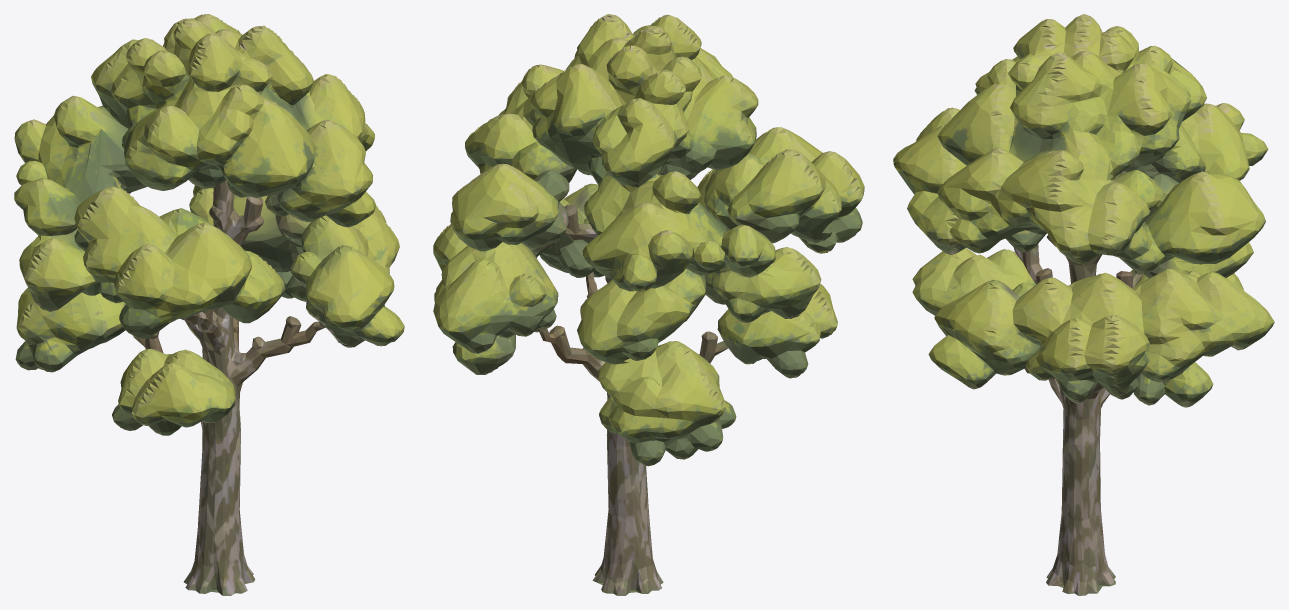
The model's file is plane_tree.glb.
The picture shows the model from 3 angles, left to right: view 1: azimuth 30°, elevation 25°; view 2: azimuth 150°, elevation 25°; view 3: azimuth 270°, elevation 25°; orthographic projection. The views are drawn at different scales.
Visible parts, largest first — view 1: plane_tree; view 2: plane_tree; view 3: plane_tree.
Boxes of the visible parts, box(x1,y1,x2,y2) form: plane_tree: box(14, 14, 404, 595); plane_tree: box(433, 14, 864, 595); plane_tree: box(893, 14, 1274, 595).
Bounding box in the file's own units: 7.56 × 11 × 6.9.
Materials: 1 (1 with a texture image).
